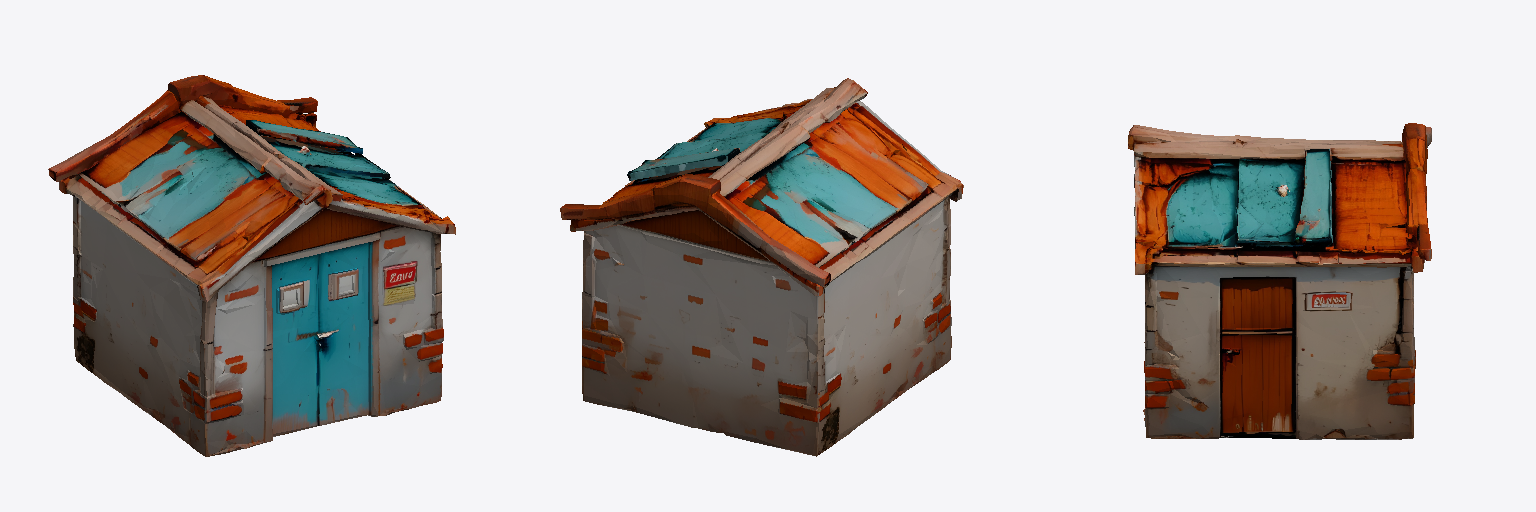
3 views of the same model, side by side, from view 1: azimuth 30°, elevation 25°; view 2: azimuth 150°, elevation 25°; view 3: azimuth 270°, elevation 25° (orthographic).
Visible parts, largest first — view 1: 1_1234_50_5.0_384_8000; view 2: 1_1234_50_5.0_384_8000; view 3: 1_1234_50_5.0_384_8000.
Part boxes in pixels (left/top/right/bottom): 1_1234_50_5.0_384_8000: left=48, top=75, right=455, bottom=456; 1_1234_50_5.0_384_8000: left=560, top=78, right=963, bottom=456; 1_1234_50_5.0_384_8000: left=1128, top=123, right=1431, bottom=439.
Bounding box in the file's own units: 1.98 × 1.79 × 1.97.
1 materials, 1 textured.